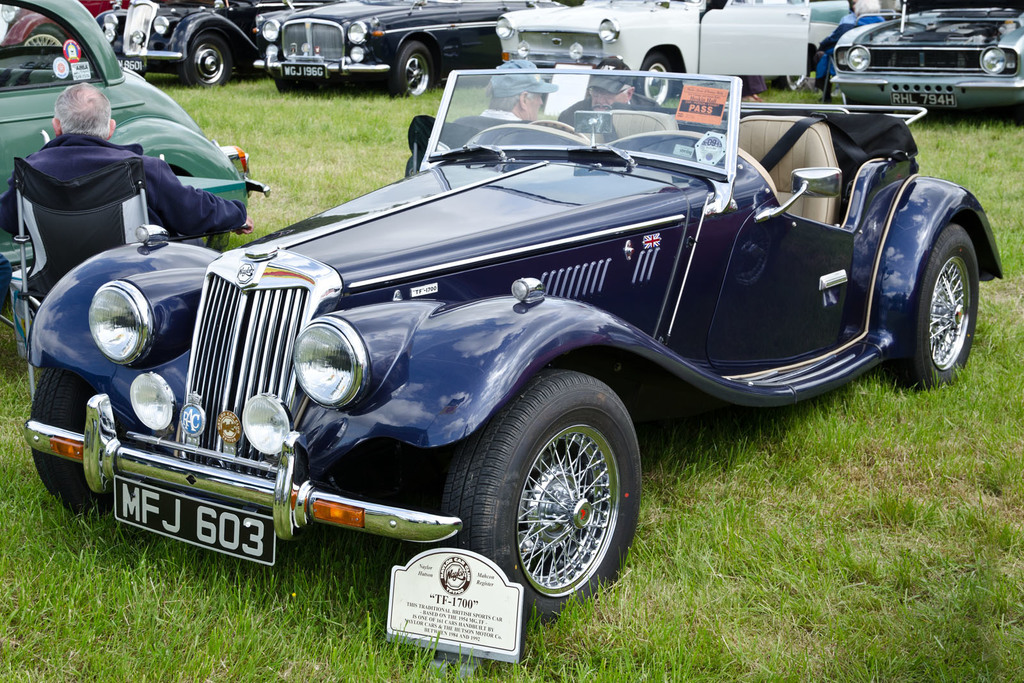Car: (7, 49, 937, 613), (0, 0, 272, 308), (486, 0, 867, 110), (257, 0, 570, 96), (827, 0, 1023, 106), (99, 0, 337, 80), (5, 0, 120, 73)
